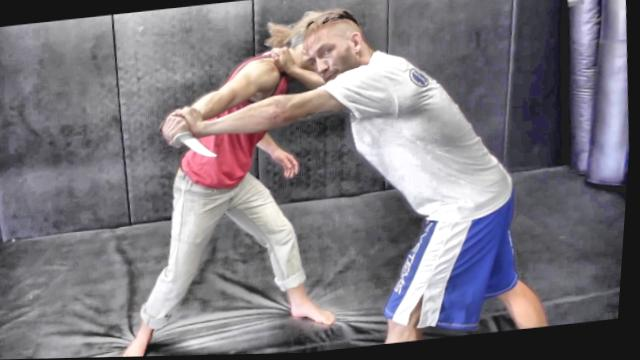knife: (157, 112, 226, 170)
